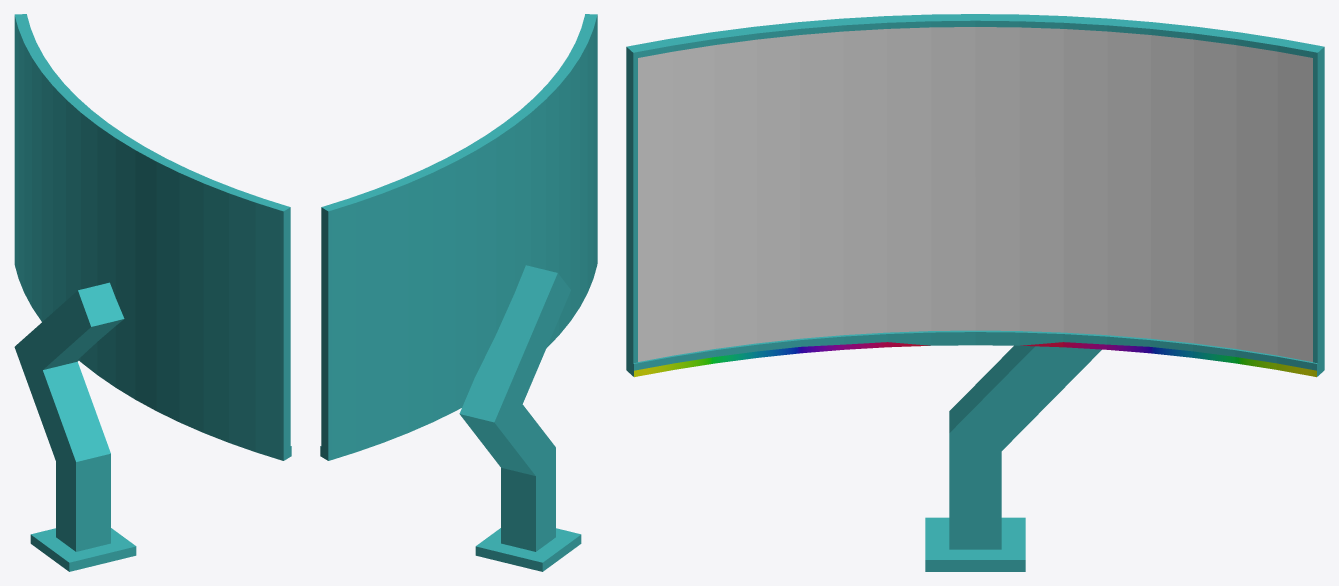
The model's file is monitorDiamond.fbx.
3 views of the same model, side by side, from view 1: azimuth 30°, elevation 25°; view 2: azimuth 150°, elevation 25°; view 3: azimuth 270°, elevation 25° (orthographic). The views are drawn at different scales.
Visible parts, largest first — view 1: Frame, Leg; view 2: Frame, Leg; view 3: Screen, Frame, Leg.
Part boxes in pixels (x1,y1,x2,y2): Frame: (14,14,291,460); Leg: (14,282,136,571); Frame: (320,14,597,460); Leg: (459,265,581,571); Screen: (638,27,1312,361); Frame: (626,14,1324,377); Leg: (925,345,1101,571).
Size of the model in its own units: 0.9218 by 3.91 by 3.37.
